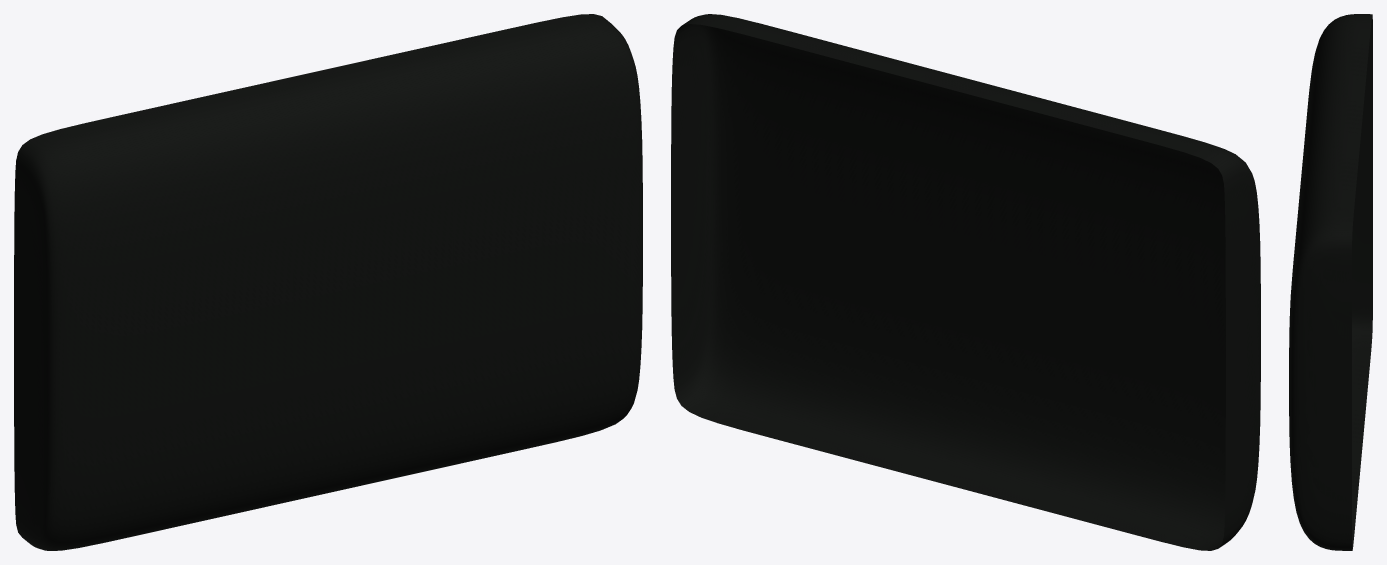
File: computer_monitor.glb
The picture shows the model from 3 angles, left to right: view 1: azimuth 30°, elevation 25°; view 2: azimuth 150°, elevation 25°; view 3: azimuth 270°, elevation 25°; orthographic projection. The views are drawn at different scales.
Visible parts, largest first — view 1: ComputerMonitorMesh; view 2: ComputerMonitorMesh; view 3: ComputerMonitorMesh.
Boxes of the visible parts, box(x1,y1,x2,y2) form: ComputerMonitorMesh: box(14, 14, 642, 550); ComputerMonitorMesh: box(671, 14, 1260, 550); ComputerMonitorMesh: box(1289, 14, 1372, 550).
Bounding box in the file's own units: 0.2186 × 0.1455 × 0.0337.
Materials: 1 (1 with a texture image).
